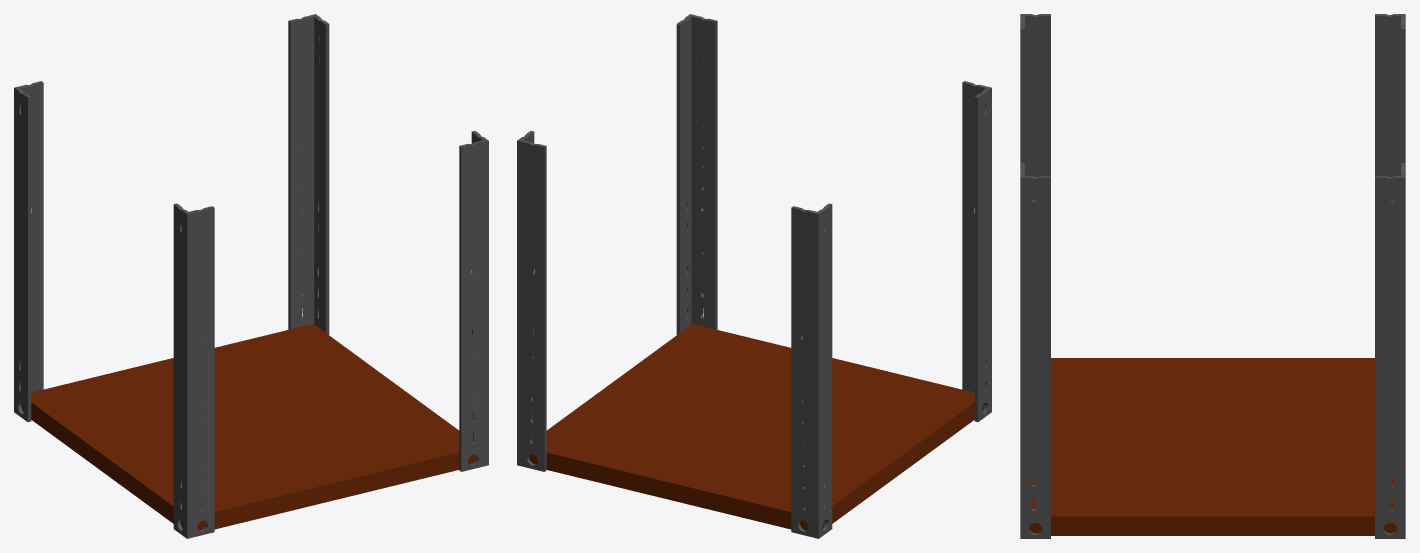
Rendered from Estante.fbx.
3 views of the same model, side by side, from view 1: azimuth 30°, elevation 25°; view 2: azimuth 150°, elevation 25°; view 3: azimuth 270°, elevation 25° (orthographic). The views are drawn at different scales.
Parts seen in each view (by area): view 1: Cube.001; view 2: Cube.001; view 3: Cube.001.
Boxes of the visible parts, bbox=[...] form: Cube.001: bbox=[14, 14, 488, 538]; Cube.001: bbox=[517, 14, 991, 538]; Cube.001: bbox=[1020, 14, 1405, 538].
Size of the model in its own units: 95.74 by 98.47 by 95.17.
